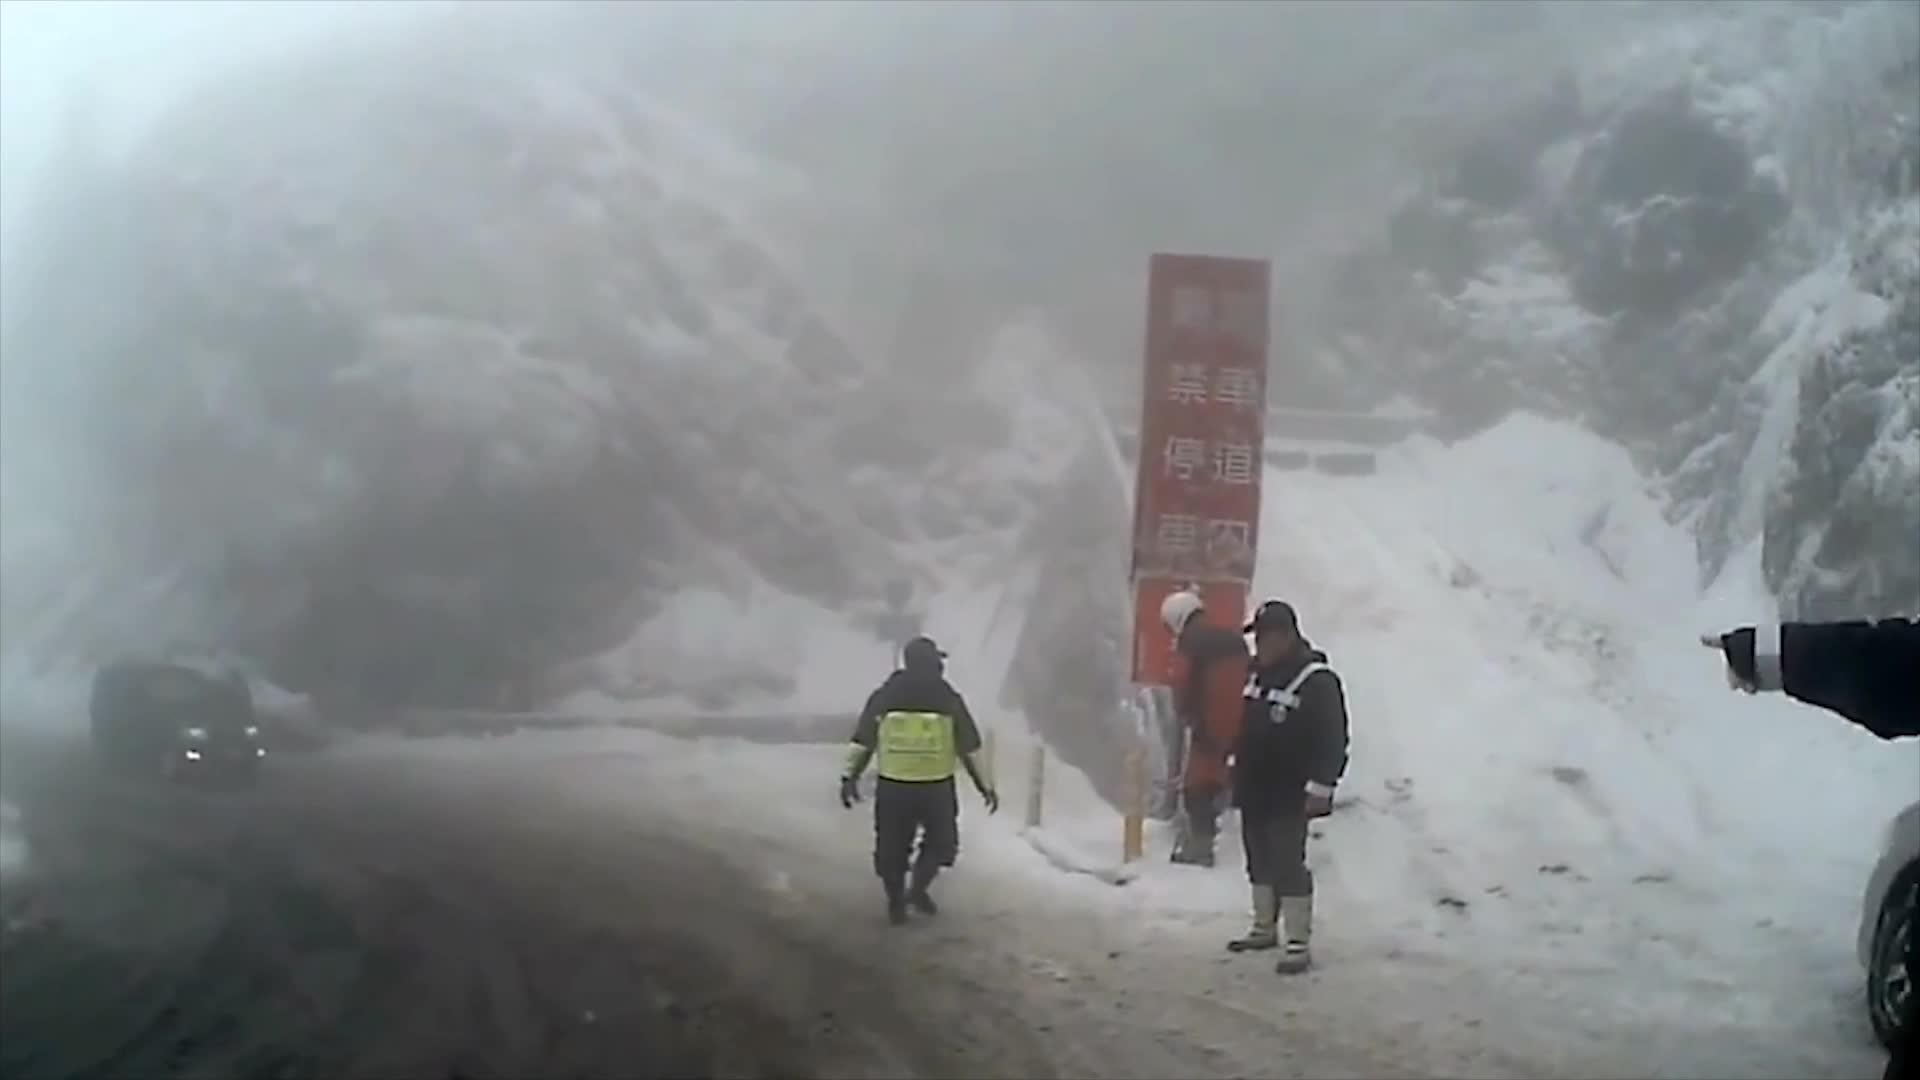pedestrian: (1228, 593, 1349, 981), (842, 626, 1001, 923), (1152, 591, 1261, 841)
vehicle: (86, 654, 263, 785)
